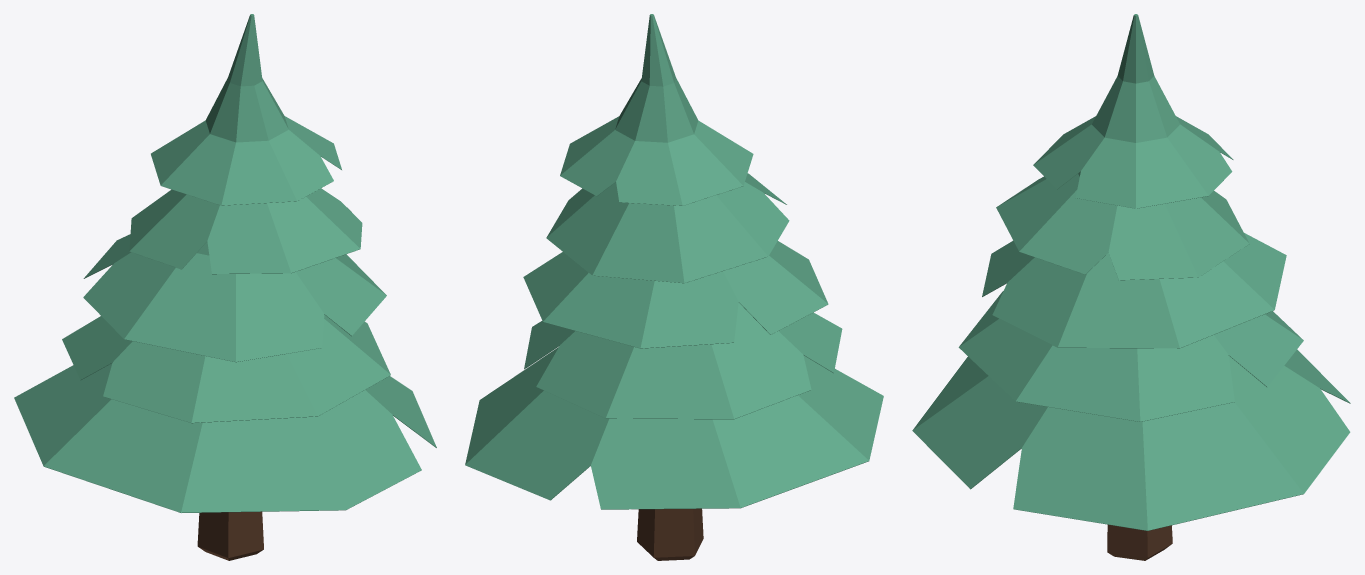
Rendered from tree-09.glb.
3 renders of one model, left to right at view 1: azimuth 30°, elevation 25°; view 2: azimuth 150°, elevation 25°; view 3: azimuth 270°, elevation 25°, orthographic. The views are drawn at different scales.
Parts seen in each view (by area): view 1: Tree4_1; view 2: Tree4_1; view 3: Tree4_1.
Boxes of the visible parts, x1,y1,x2,y2 form: Tree4_1: (14,14,436,560); Tree4_1: (465,14,883,560); Tree4_1: (912,14,1350,560).
Bounding box in the file's own units: 6.72 × 8.99 × 6.55.
